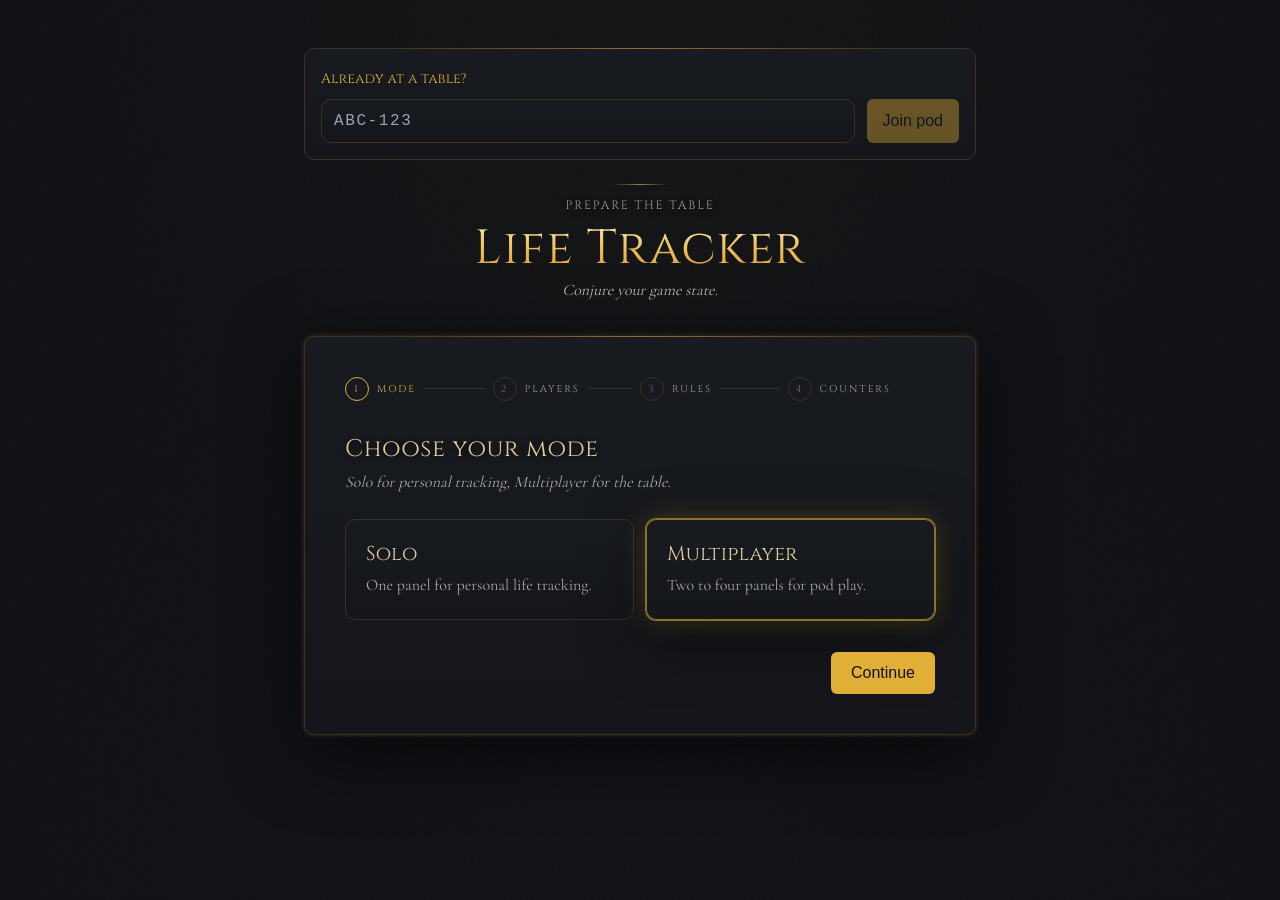
Test: Tracker Page › does NOT show the rename hint in solo mode
Click the button with test id "mode-solo". click: [392, 554]
box: [345,519,634,620]
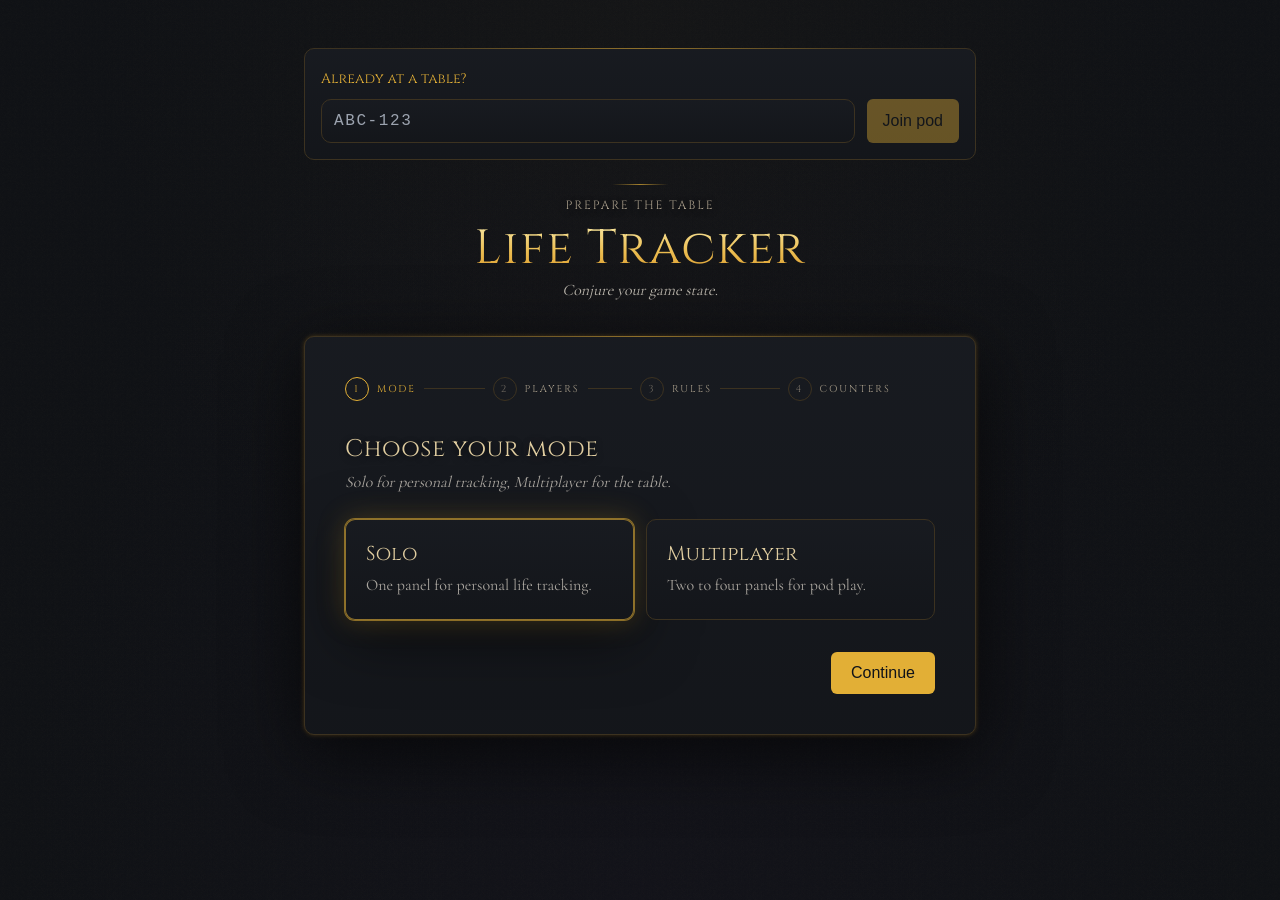
Click the button with test id "button-wizard-next". click: [883, 673]
box: [831,652,935,694]
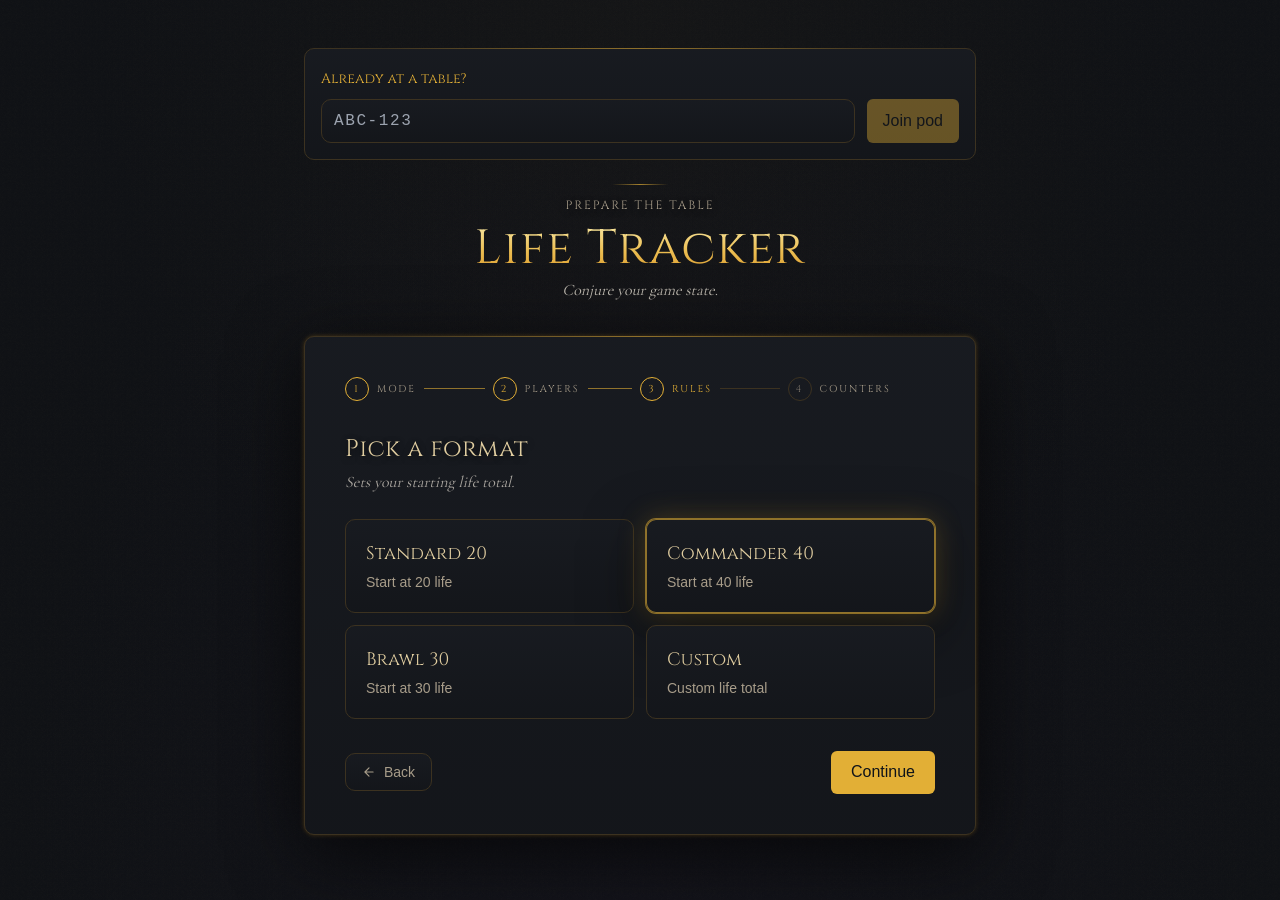
Check: the number of buttons with test id "format-standard-20" is 1
Click the button with test id "format-standard-20". click: [490, 566]
box: [345,519,634,613]
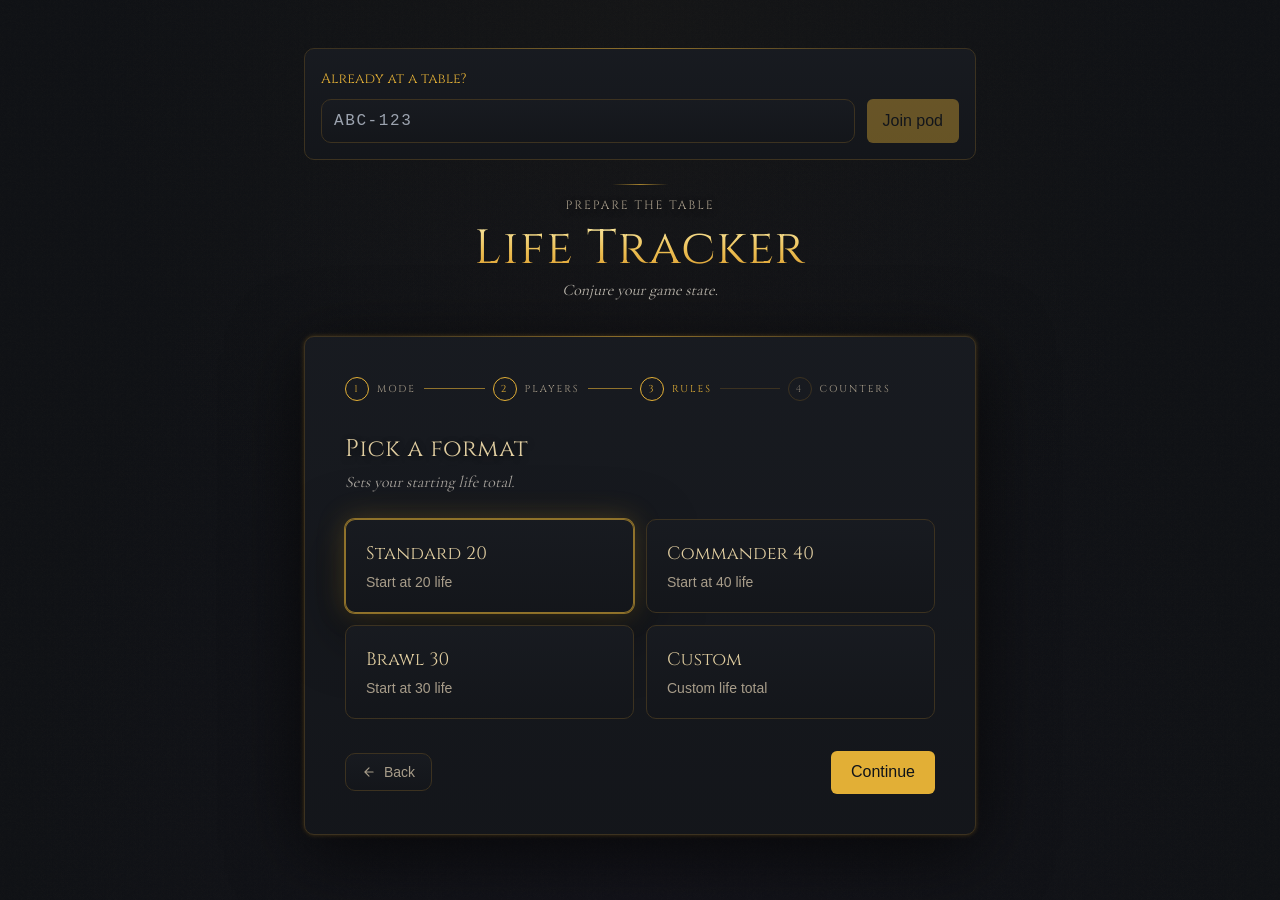
Click the button with test id "button-wizard-next". click: [883, 772]
box: [831,751,935,794]
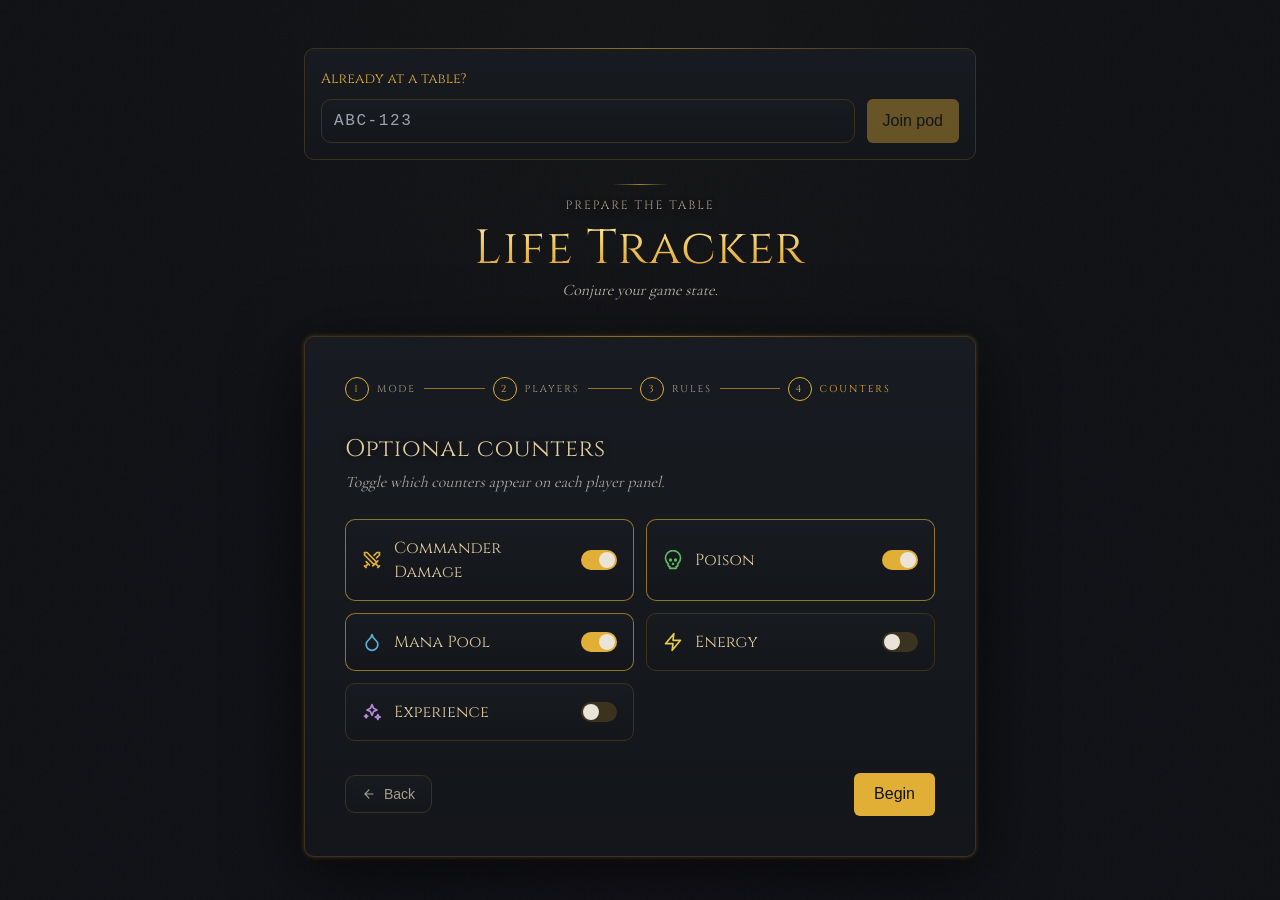
Click the button with test id "button-wizard-next". click: [895, 794]
box: [854,773,935,816]
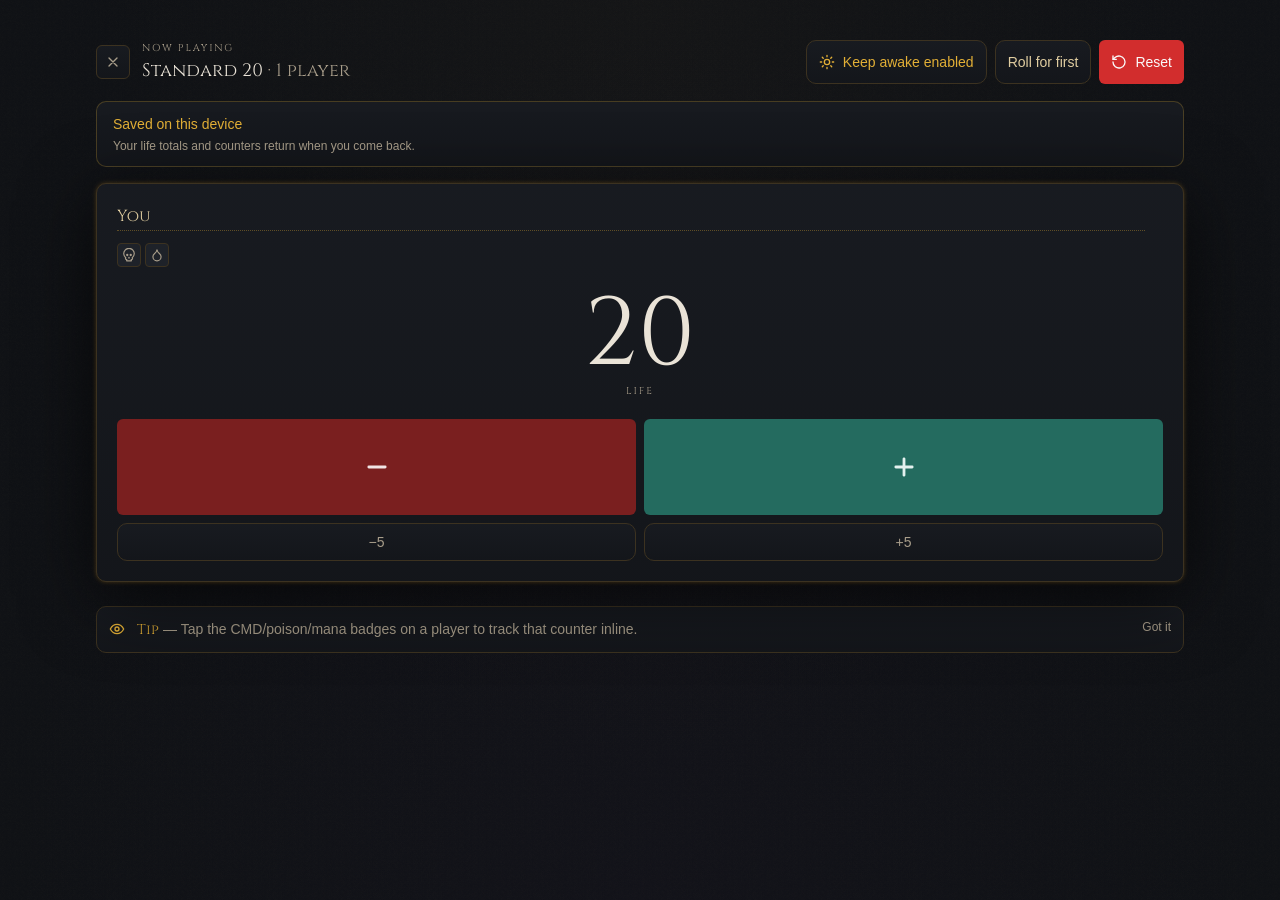
Check: the text with test id "life-1" reads "20", box [584,270,696,400]
